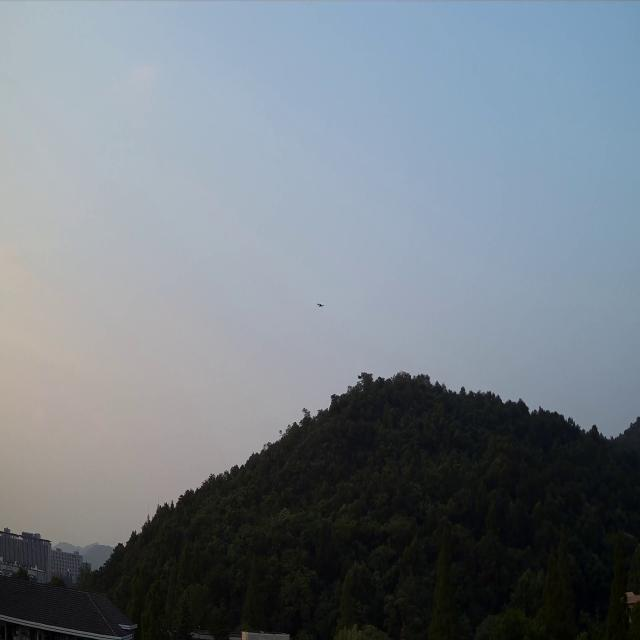UAV: (316, 300, 324, 308)
